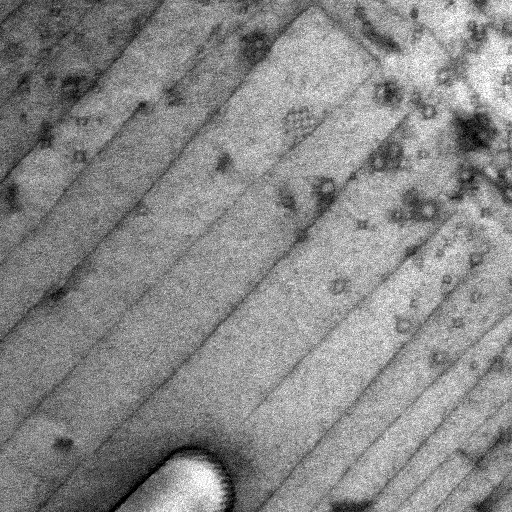y2o3_appleGreen: (449, 114, 475, 143), (467, 127, 499, 150), (77, 37, 102, 64), (375, 34, 402, 55), (44, 282, 72, 302), (359, 21, 382, 44), (214, 150, 233, 174), (50, 435, 73, 454), (38, 69, 58, 89), (488, 353, 507, 373), (133, 97, 152, 115), (70, 28, 88, 46), (36, 117, 55, 134), (467, 91, 484, 108), (405, 243, 420, 259), (92, 113, 108, 127), (408, 6, 419, 20), (478, 314, 490, 325), (485, 305, 495, 318), (463, 305, 474, 315), (18, 113, 27, 125)
y2o3_green: (280, 105, 319, 147), (194, 71, 228, 114), (239, 29, 273, 65), (206, 19, 241, 46), (1, 40, 28, 69), (372, 80, 399, 109), (1, 181, 24, 215), (126, 11, 149, 43), (161, 86, 187, 112), (397, 185, 425, 209), (467, 110, 493, 132), (31, 20, 57, 39), (407, 23, 425, 48), (495, 424, 511, 448), (35, 133, 54, 150), (104, 26, 119, 47), (500, 64, 512, 87), (353, 5, 367, 23), (43, 7, 63, 18), (193, 43, 206, 59)
y2o3_peppermintGreen: (307, 176, 338, 219), (67, 257, 98, 291), (412, 198, 443, 222), (276, 181, 297, 215), (9, 70, 34, 96), (57, 74, 82, 100), (453, 162, 478, 185), (367, 147, 387, 175), (380, 138, 404, 161), (392, 314, 416, 336), (433, 64, 455, 86), (428, 347, 451, 367), (409, 88, 429, 110), (327, 278, 351, 296), (467, 249, 485, 272), (131, 198, 151, 218), (31, 48, 53, 66), (410, 249, 426, 273), (496, 164, 512, 186), (469, 26, 488, 44), (471, 454, 490, 472), (384, 207, 404, 224), (445, 186, 464, 202), (71, 147, 87, 164), (292, 227, 309, 243), (421, 105, 438, 121), (71, 114, 91, 127), (454, 478, 470, 494), (429, 143, 443, 160), (500, 19, 512, 38), (500, 187, 512, 206), (378, 270, 394, 284), (417, 236, 430, 252), (449, 316, 465, 329), (469, 290, 483, 304), (392, 92, 405, 107), (479, 206, 494, 219), (455, 219, 470, 232), (355, 216, 368, 230), (465, 20, 479, 33), (283, 71, 295, 85), (441, 273, 454, 285), (415, 149, 428, 161), (441, 236, 454, 248), (468, 359, 481, 371), (433, 248, 447, 259), (347, 169, 358, 182), (408, 297, 419, 308), (404, 211, 413, 224), (504, 44, 512, 58), (299, 75, 308, 86)
